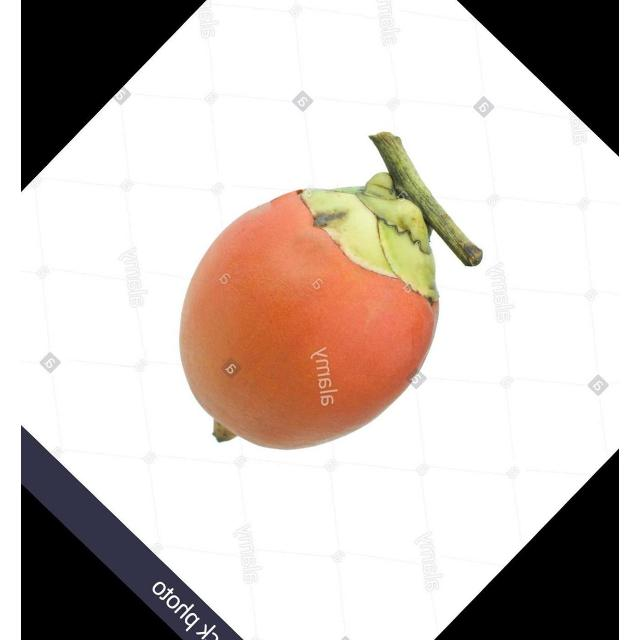good: (178, 133, 483, 454)
